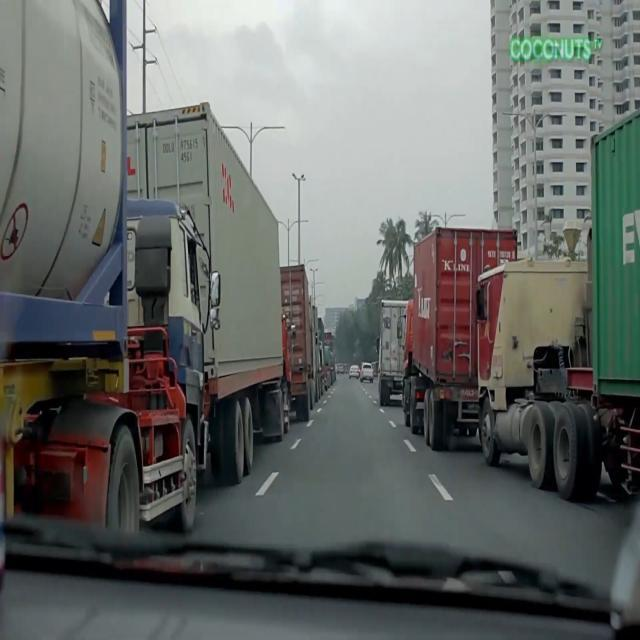truck: (0, 0, 220, 540), (476, 99, 640, 511), (127, 100, 294, 483), (396, 227, 518, 452), (280, 264, 317, 420), (375, 300, 410, 408)
